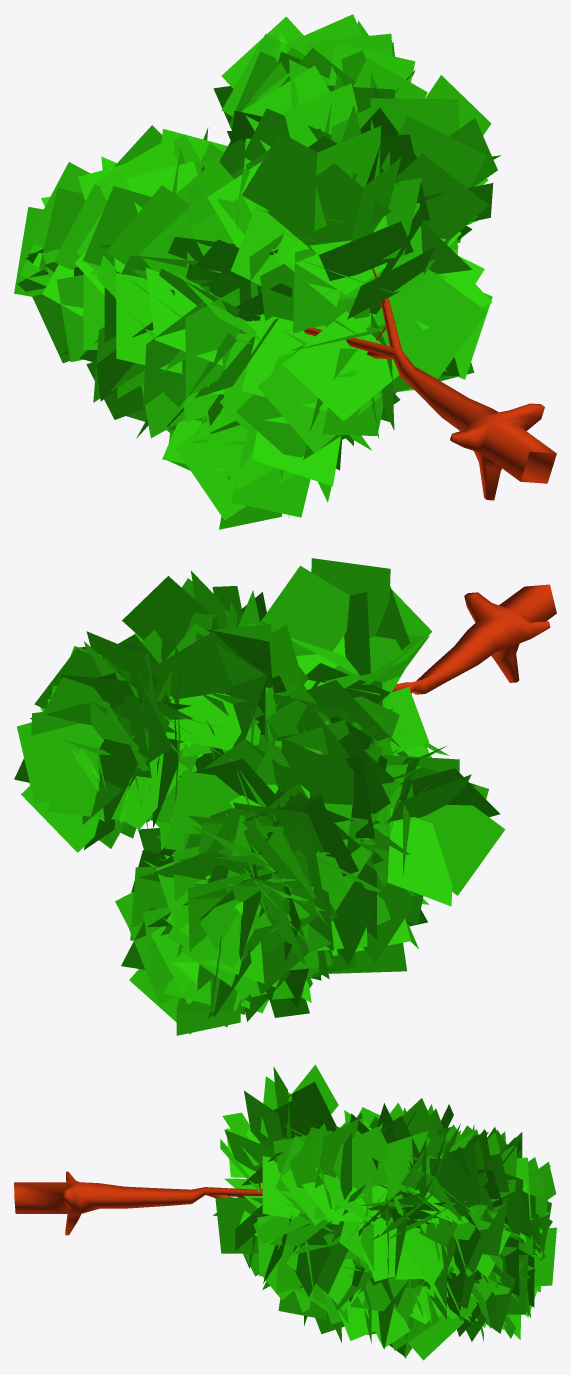
File: trees.fbx
The picture shows the model from 3 angles, top to bottom: view 1: azimuth 30°, elevation 25°; view 2: azimuth 150°, elevation 25°; view 3: azimuth 270°, elevation 25°; orthographic projection. The views are drawn at different scales.
Parts seen in each view (by area): view 1: tree; view 2: tree; view 3: tree.
Boxes of the visible parts, bbox=[...] form: tree: bbox=[14, 14, 556, 529]; tree: bbox=[14, 558, 556, 1035]; tree: bbox=[14, 1064, 556, 1360].
Size of the model in its own units: 1209 by 1167 by 1977.
